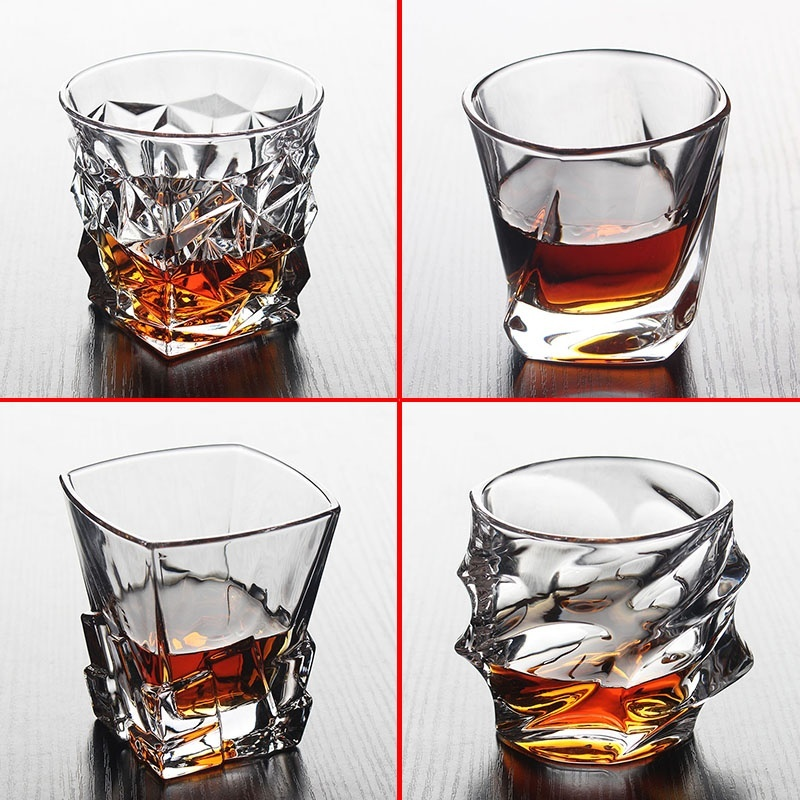whiskey: (60, 450, 323, 771), (476, 460, 731, 759), (70, 47, 310, 346), (469, 64, 708, 364)
